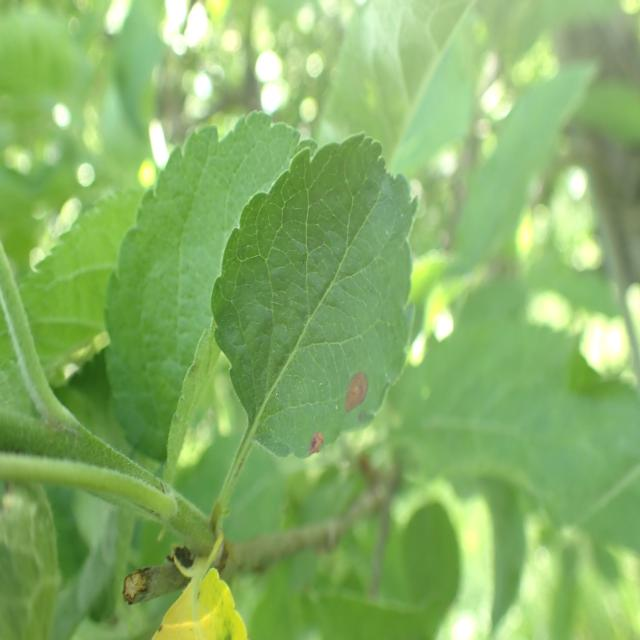Black Rot: (338, 360, 373, 417), (302, 423, 330, 468)
